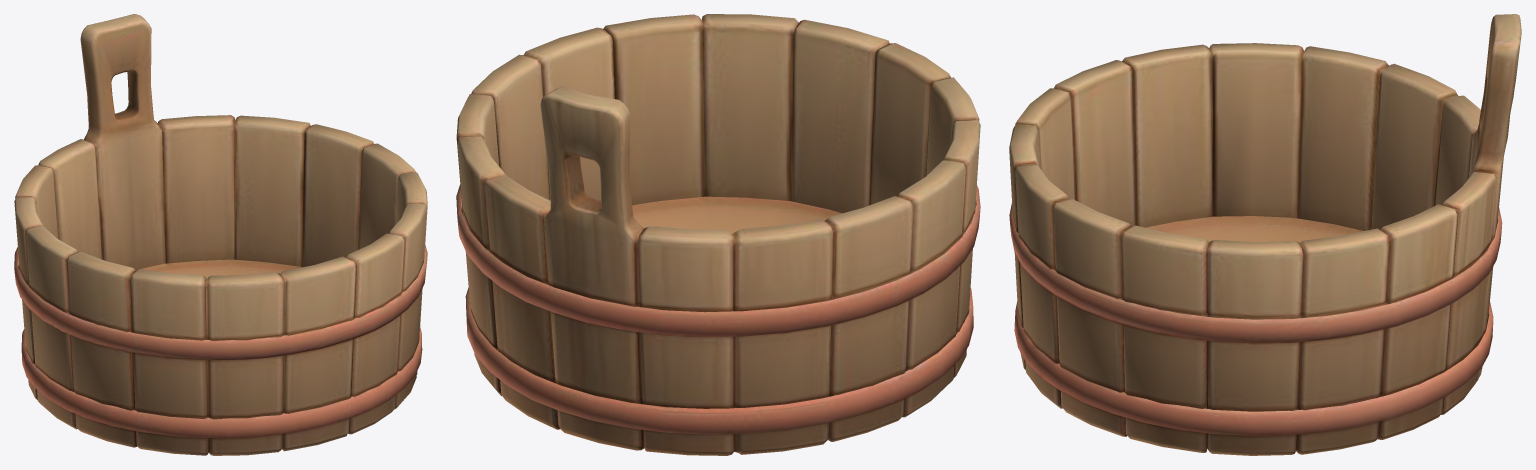
File: onsen-bucket.glb
3 renders of one model, left to right at view 1: azimuth 30°, elevation 25°; view 2: azimuth 150°, elevation 25°; view 3: azimuth 270°, elevation 25°, orthographic. The views are drawn at different scales.
Parts seen in each view (by area): view 1: tripo_node_f62da1df-c0af-4b43-9940-d7afe60cd640; view 2: tripo_node_f62da1df-c0af-4b43-9940-d7afe60cd640; view 3: tripo_node_f62da1df-c0af-4b43-9940-d7afe60cd640.
Boxes of the visible parts, box(x1,y1,x2,y2) form: tripo_node_f62da1df-c0af-4b43-9940-d7afe60cd640: box(14, 14, 427, 455); tripo_node_f62da1df-c0af-4b43-9940-d7afe60cd640: box(456, 14, 980, 455); tripo_node_f62da1df-c0af-4b43-9940-d7afe60cd640: box(1009, 14, 1521, 455).
Bounding box in the file's own units: 0.3367 × 0.25 × 0.3465.
Materials: 1 (1 with a texture image).
